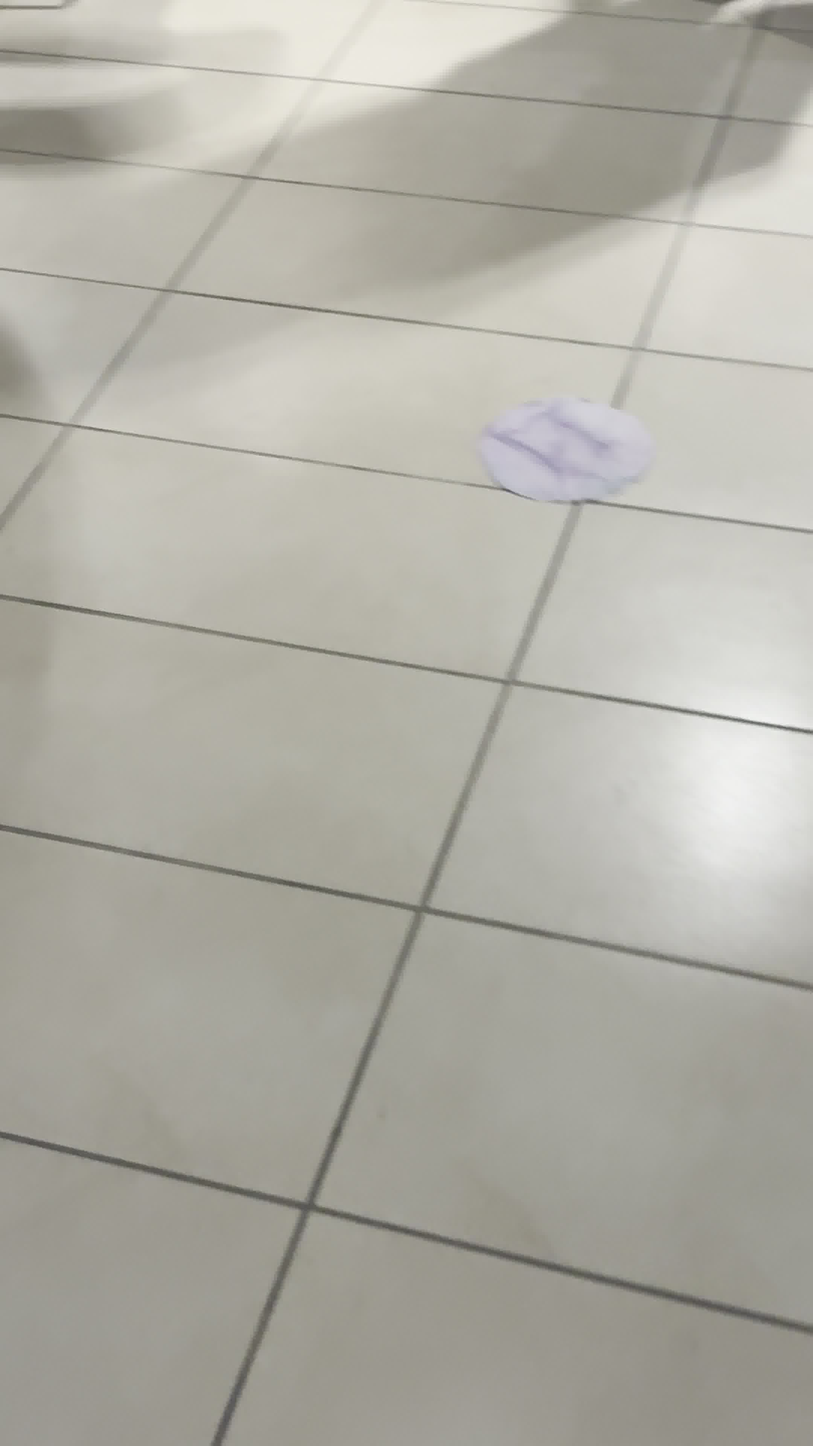Target: (484, 390, 653, 505)
